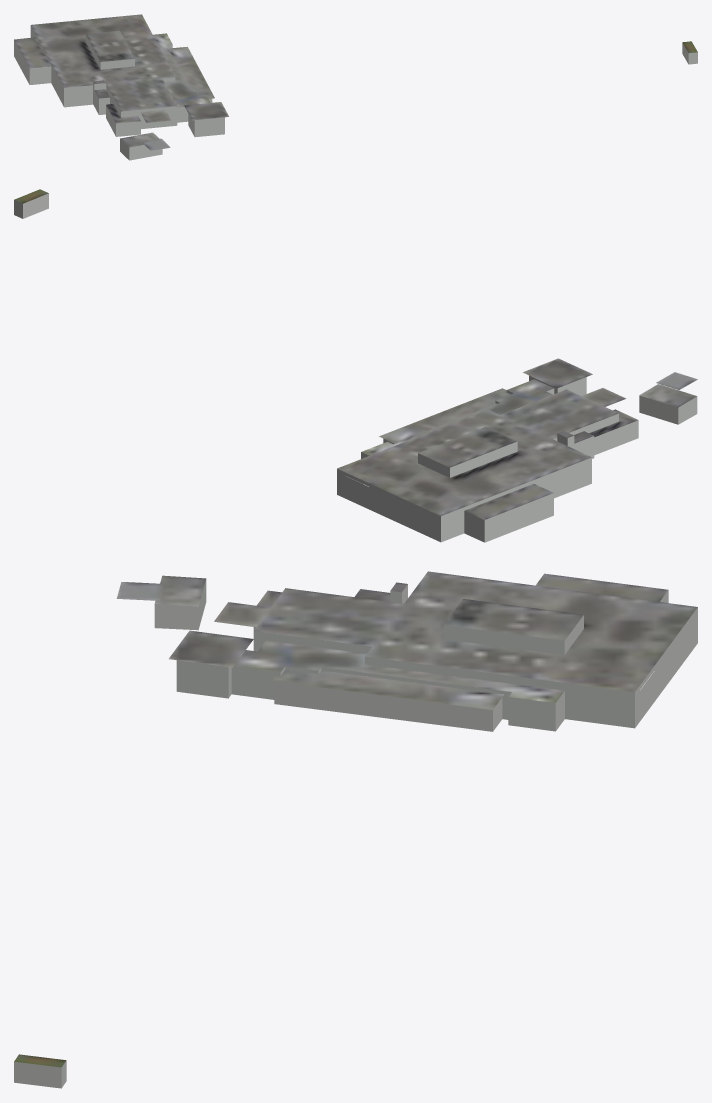
File: LSZA_-1_-2.glb
The picture shows the model from 3 angles, top to bottom: view 1: azimuth 30°, elevation 25°; view 2: azimuth 150°, elevation 25°; view 3: azimuth 270°, elevation 25°; orthographic projection. The views are drawn at different scales.
Visible parts, largest first — view 1: building_f59603940779008a, building_f8e120fb79152361; view 2: building_f59603940779008a, building_f8e120fb79152361, building_d373caf293b008ed; view 3: building_f59603940779008a, building_f8e120fb79152361, building_d373caf293b008ed.
Part boxes in pixels (bbox=[...]): building_f59603940779008a: bbox=[14, 14, 228, 150]; building_f8e120fb79152361: bbox=[14, 25, 224, 160]; building_f59603940779008a: bbox=[337, 358, 697, 519]; building_f8e120fb79152361: bbox=[337, 375, 697, 542]; building_d373caf293b008ed: bbox=[14, 193, 48, 218]; building_f59603940779008a: bbox=[117, 571, 697, 709]; building_f8e120fb79152361: bbox=[116, 579, 697, 731]; building_d373caf293b008ed: bbox=[14, 1060, 66, 1088].
Size of the model in its own units: 264 by 13.66 by 158.
Materials: 2 (1 with a texture image).
